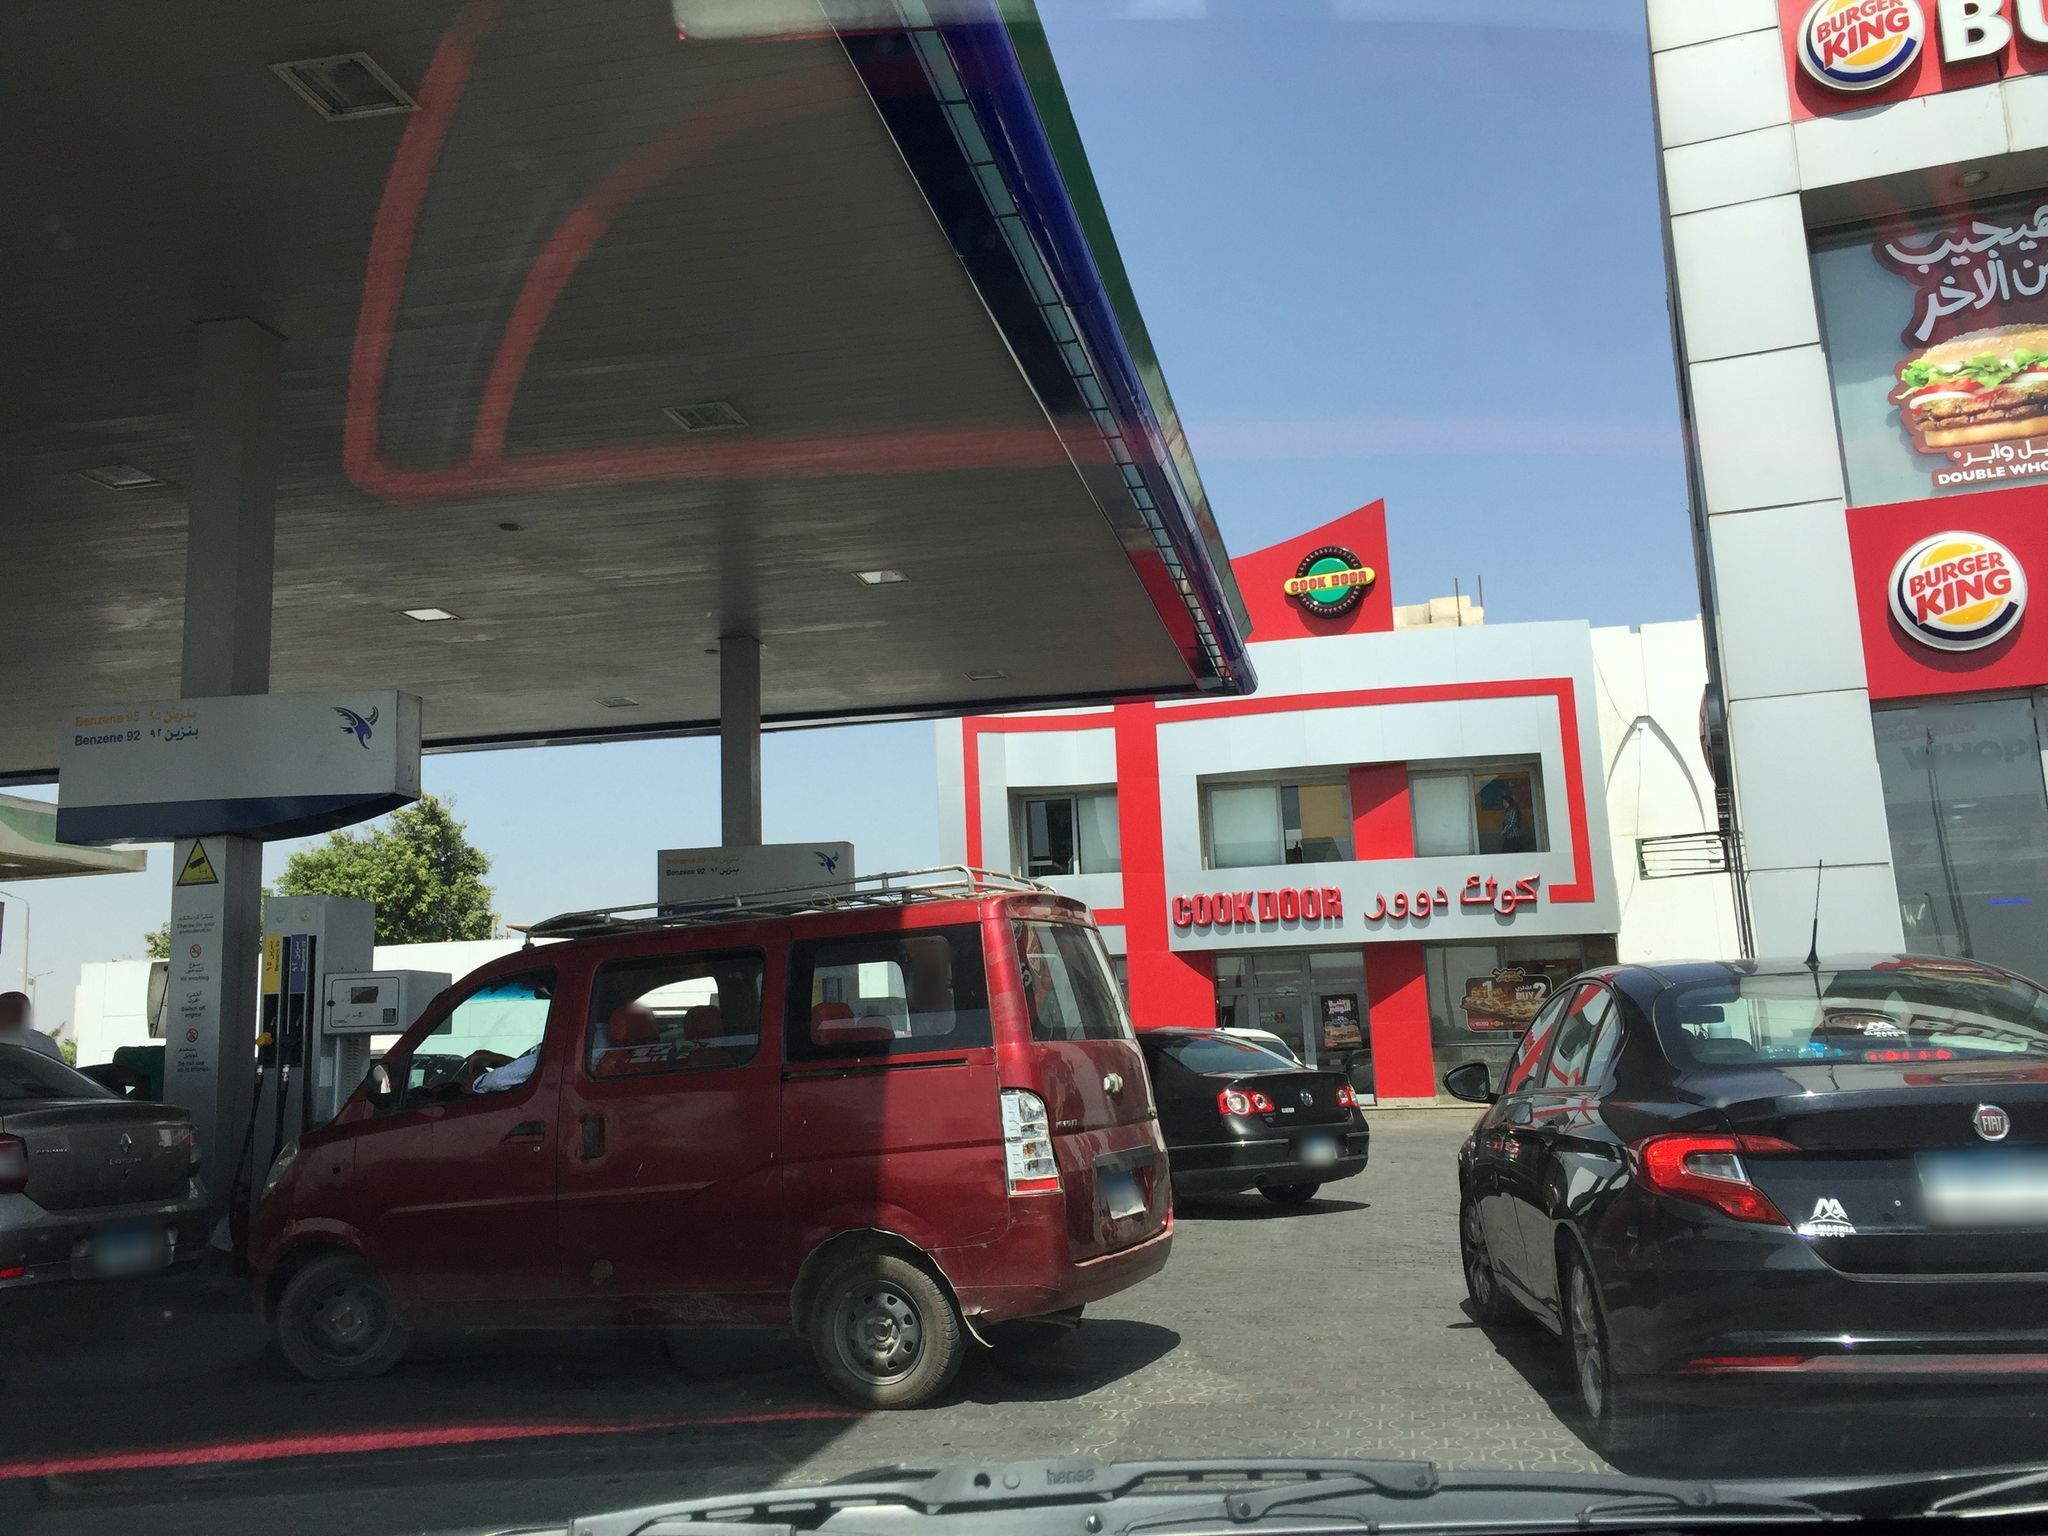car: (248, 860, 1185, 1412), (1442, 942, 2048, 1480), (0, 1039, 218, 1338), (1130, 1023, 1371, 1212)
